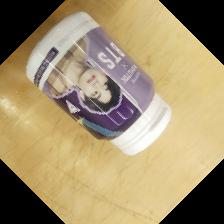Xylitol_BTS: (21, 10, 173, 157)
